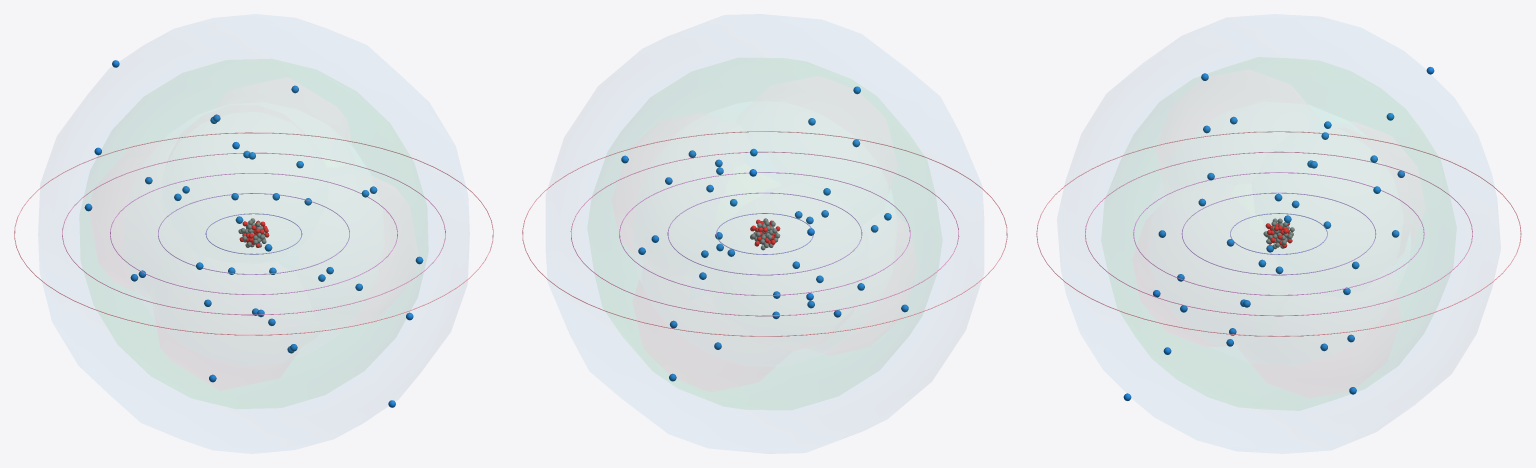
3 views of the same model, side by side, from view 1: azimuth 30°, elevation 25°; view 2: azimuth 150°, elevation 25°; view 3: azimuth 270°, elevation 25° (orthographic).
Visible parts, largest first — view 1: Nivel_n5, Nivel_n4, Nivel_n3, Nivel_n2; view 2: Nivel_n5, Nivel_n4, Nivel_n3, Nivel_n2; view 3: Nivel_n5, Nivel_n4, Nivel_n3, Nivel_n2.
Boxes of the visible parts, x1,y1,x2,y2 form: Nivel_n5: [14, 132, 493, 335]; Nivel_n4: [62, 152, 445, 315]; Nivel_n3: [110, 173, 397, 294]; Nivel_n2: [158, 193, 349, 274]; Nivel_n5: [522, 131, 1007, 336]; Nivel_n4: [570, 151, 959, 316]; Nivel_n3: [619, 172, 910, 295]; Nivel_n2: [667, 192, 862, 275]; Nivel_n5: [1036, 131, 1521, 336]; Nivel_n4: [1085, 151, 1472, 316]; Nivel_n3: [1133, 172, 1424, 295]; Nivel_n2: [1181, 192, 1376, 275].
Size of the model in its own units: 1.5 by 1.37 by 1.5.
